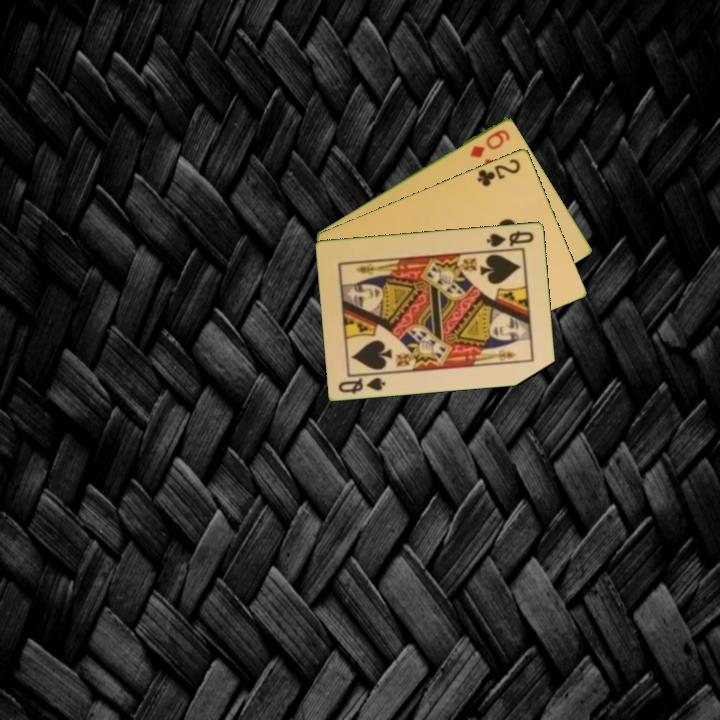2c: (474, 155, 523, 189)
6d: (466, 126, 513, 161)
Qs: (335, 370, 389, 396), (483, 227, 537, 250)
